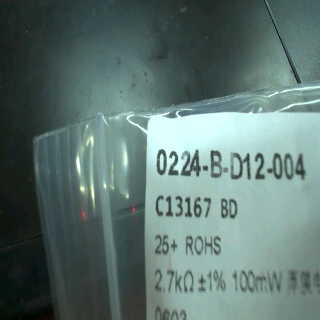2.7kR: (150, 267, 198, 294)
